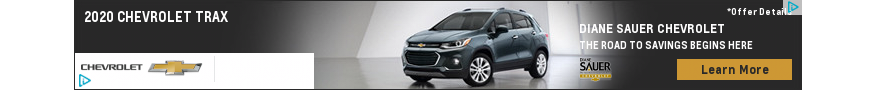fake_button: (670, 56, 796, 89)
